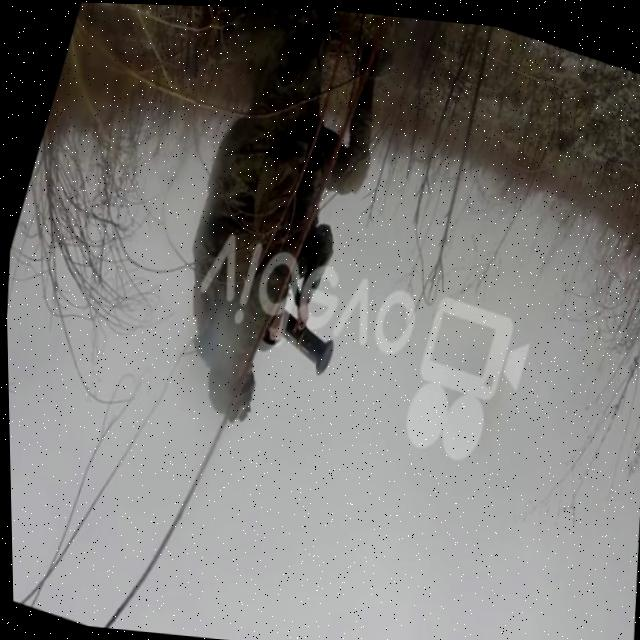rocket: (259, 299, 341, 374)
